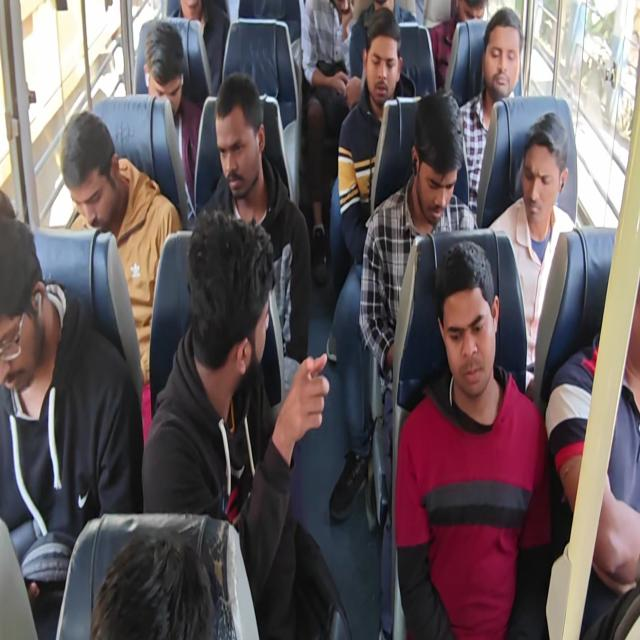person: (178, 231, 296, 390), (94, 552, 226, 640), (441, 272, 515, 391), (0, 254, 61, 388), (406, 119, 464, 218), (66, 134, 128, 226), (214, 96, 260, 203), (136, 44, 188, 127), (522, 137, 568, 217), (615, 259, 640, 375), (477, 18, 512, 94), (362, 27, 392, 79), (174, 0, 210, 37), (453, 0, 488, 25)
